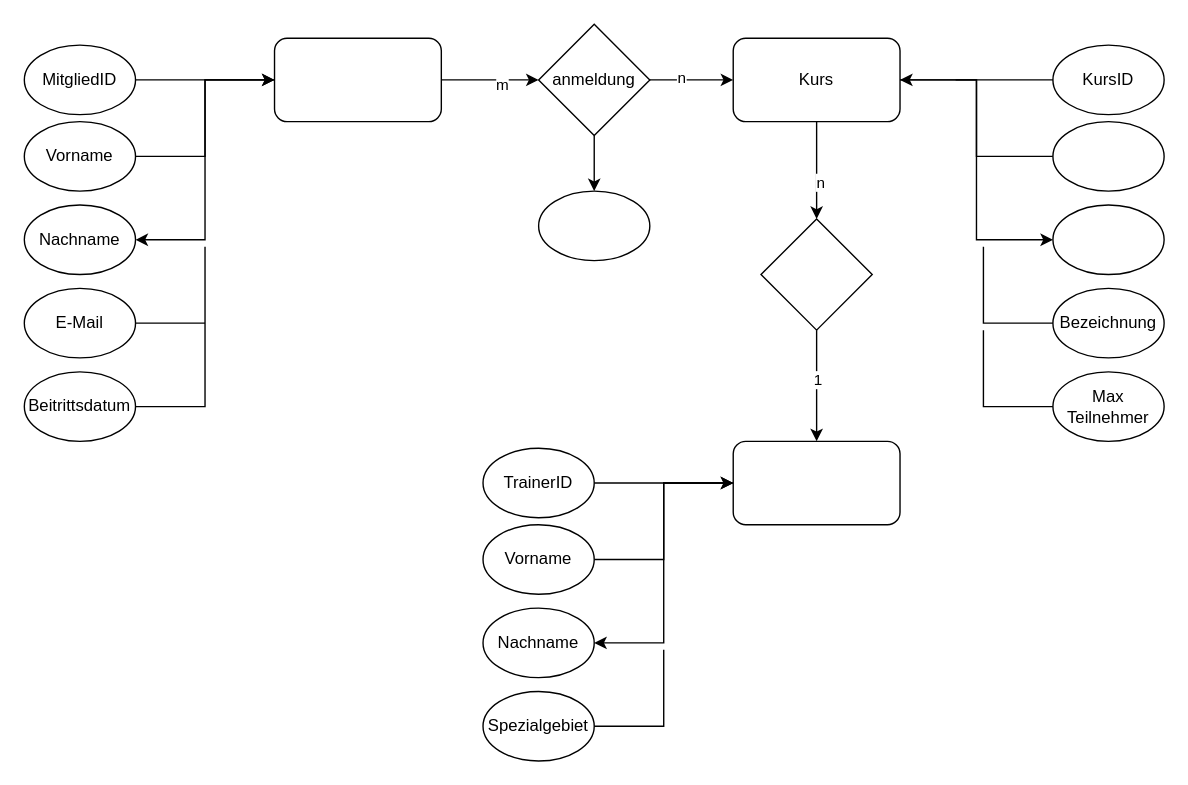
The diagram is 1188 pixels wide and 785 high, and some of its shapes have lost their labels. The shapes that lost their labels are listed below. From the top down, each one's centre as x and y in pixels, then its label:
At (357,79): "Mitglied".
At (1108,155): "Wochentag".
At (593,225): "anmeldedatum".
At (1108,239): "Uhrzeit".
At (816,274): "leitet".
At (816,482): "Trainer".
